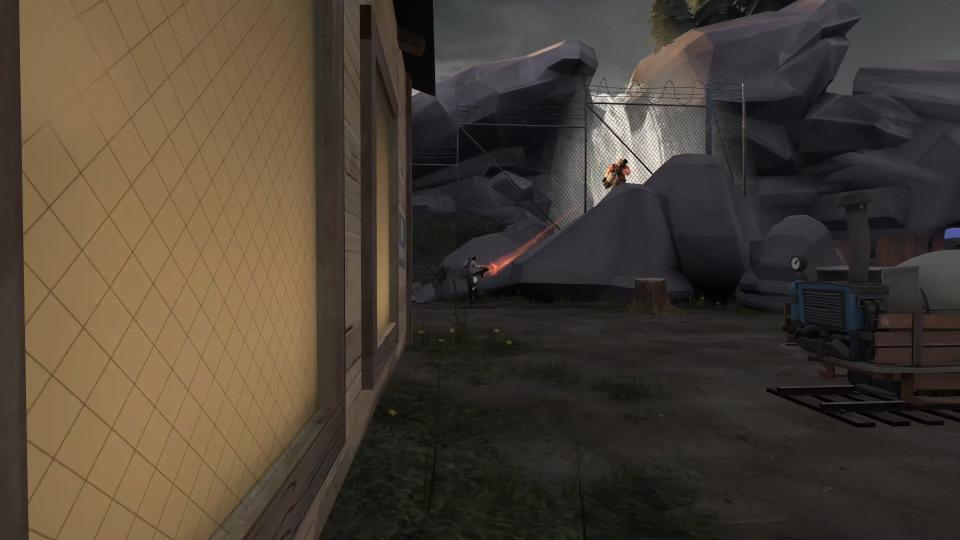Enemy: (462, 255, 494, 308), (602, 157, 630, 191)
